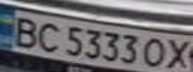3: (78, 27, 103, 61), (118, 32, 142, 65), (100, 29, 121, 64)
5: (60, 24, 87, 58)
B: (6, 15, 42, 48)
C: (30, 20, 66, 54)
O: (139, 35, 172, 70)
X: (160, 36, 193, 71)
